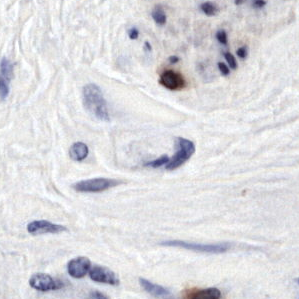Lymphocyte: (159, 70, 184, 91)
